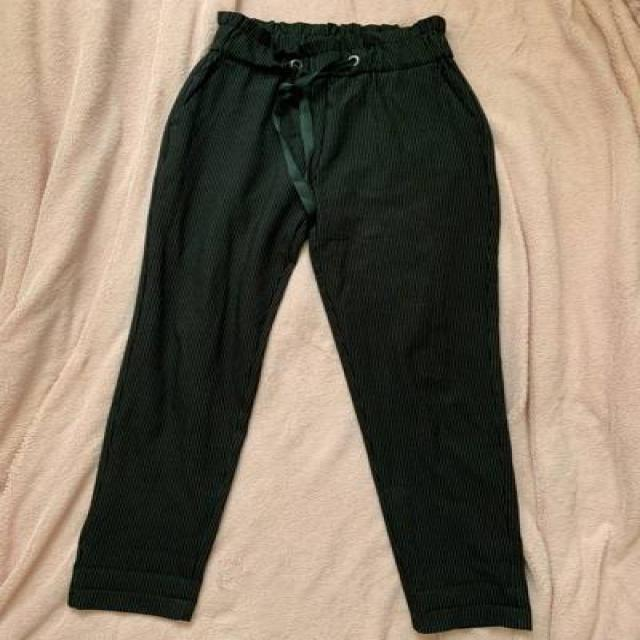Clothes -Biodegradable-: (68, 11, 532, 634)
